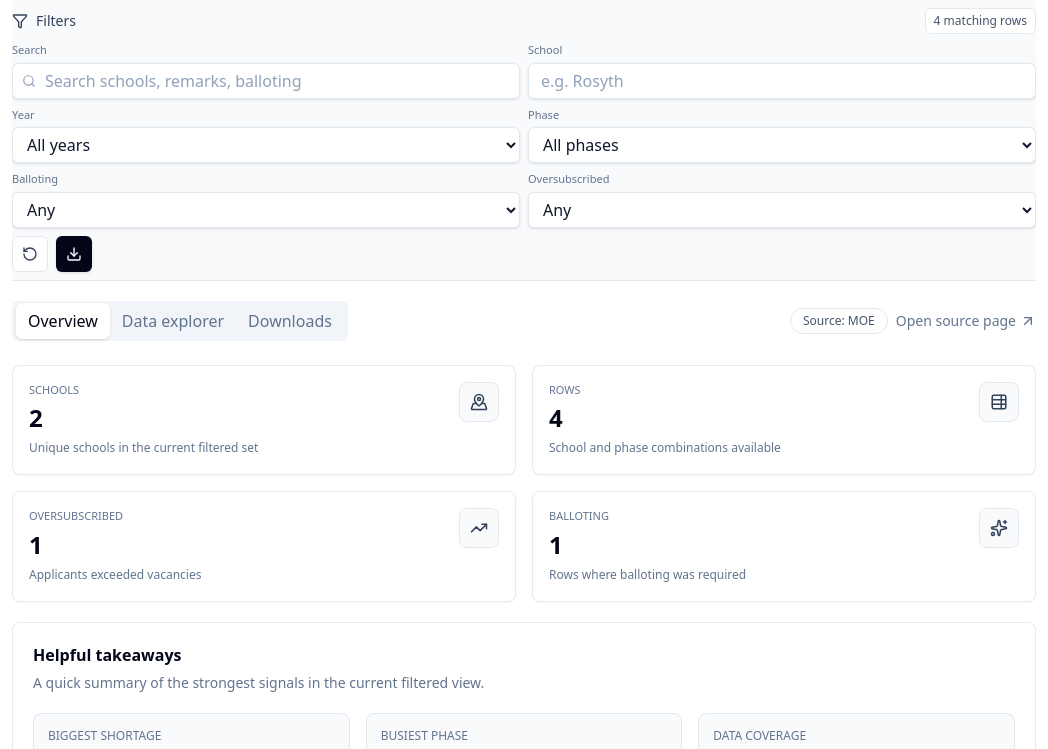
Test: Dashboard › uses the phase filter to narrow the table phase columns
Select "Phase 2C" in the dropdown labelled "Phase" at (782,145), box [528,127,1036,163]
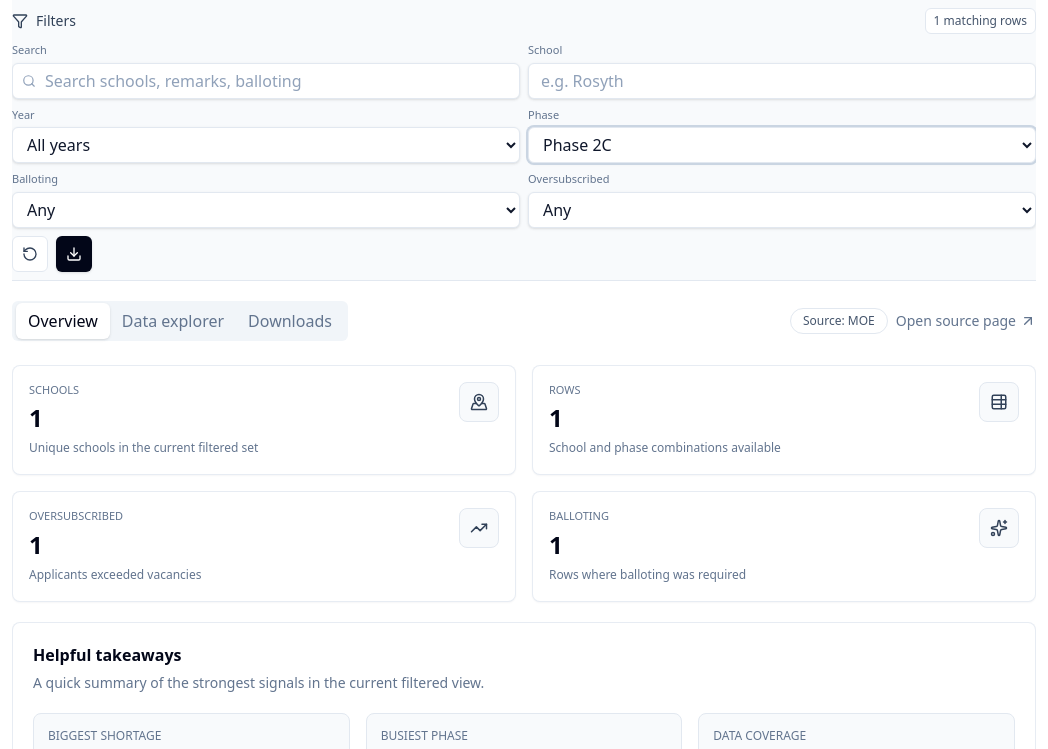
Click the tab "Data explorer" at (173,320), box [110,302,236,338]
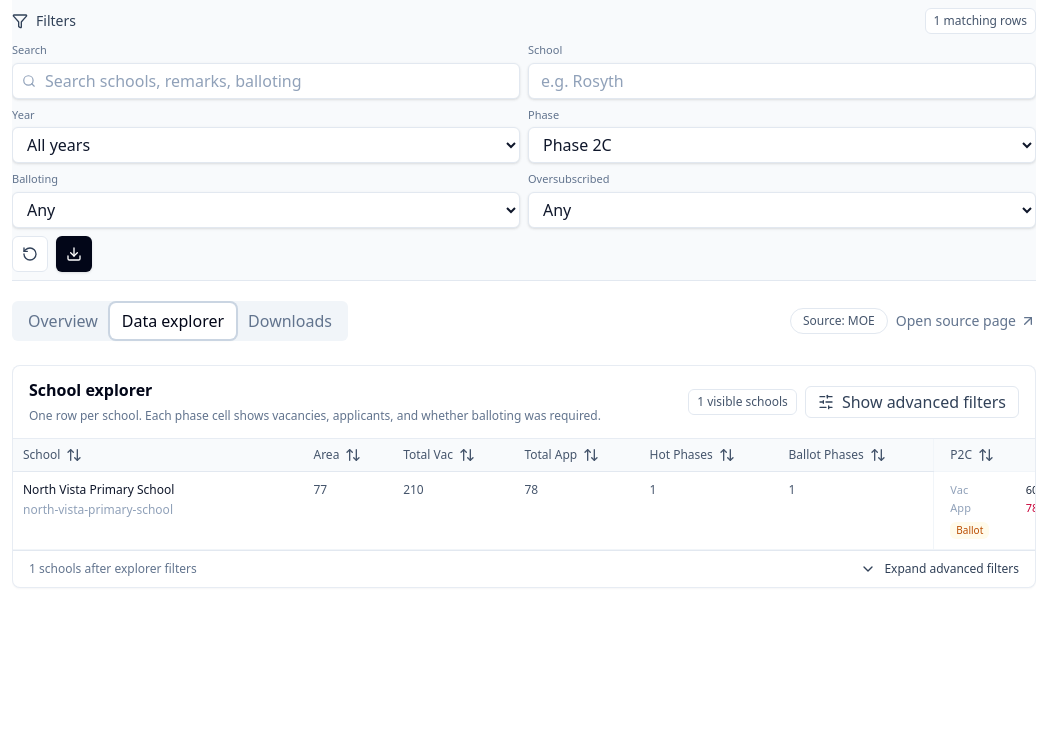
Expected: the text "North Vista Primary School" is shown, [23,480,174,498]
Expected: the button named "sort by p2c" is shown, [950,446,994,462]
